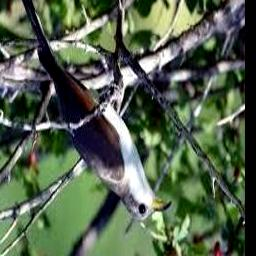Cuckoo: (13, 0, 172, 221)
